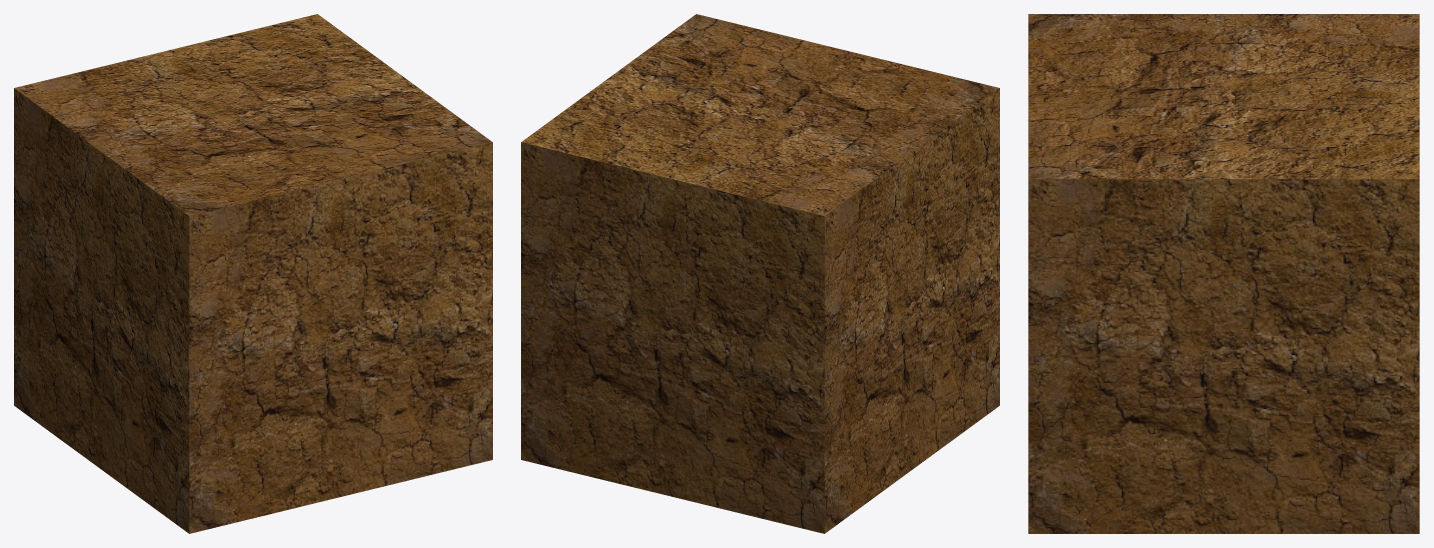
File: Dirt.fbx
3 views of the same model, side by side, from view 1: azimuth 30°, elevation 25°; view 2: azimuth 150°, elevation 25°; view 3: azimuth 270°, elevation 25° (orthographic). The views are drawn at different scales.
Visible parts, largest first — view 1: Model; view 2: Model; view 3: Model.
Boxes of the visible parts, box(x1,y1,x2,y2) form: Model: box(14, 14, 492, 533); Model: box(521, 14, 999, 533); Model: box(1028, 14, 1419, 533).
Bounding box in the file's own units: 50 × 50 × 50.
1 material, 1 textured.
